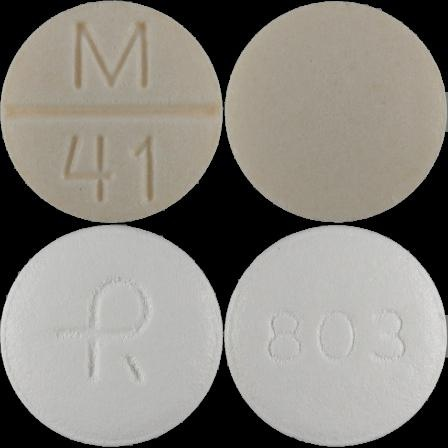54868-0699: (0, 0, 224, 224)
